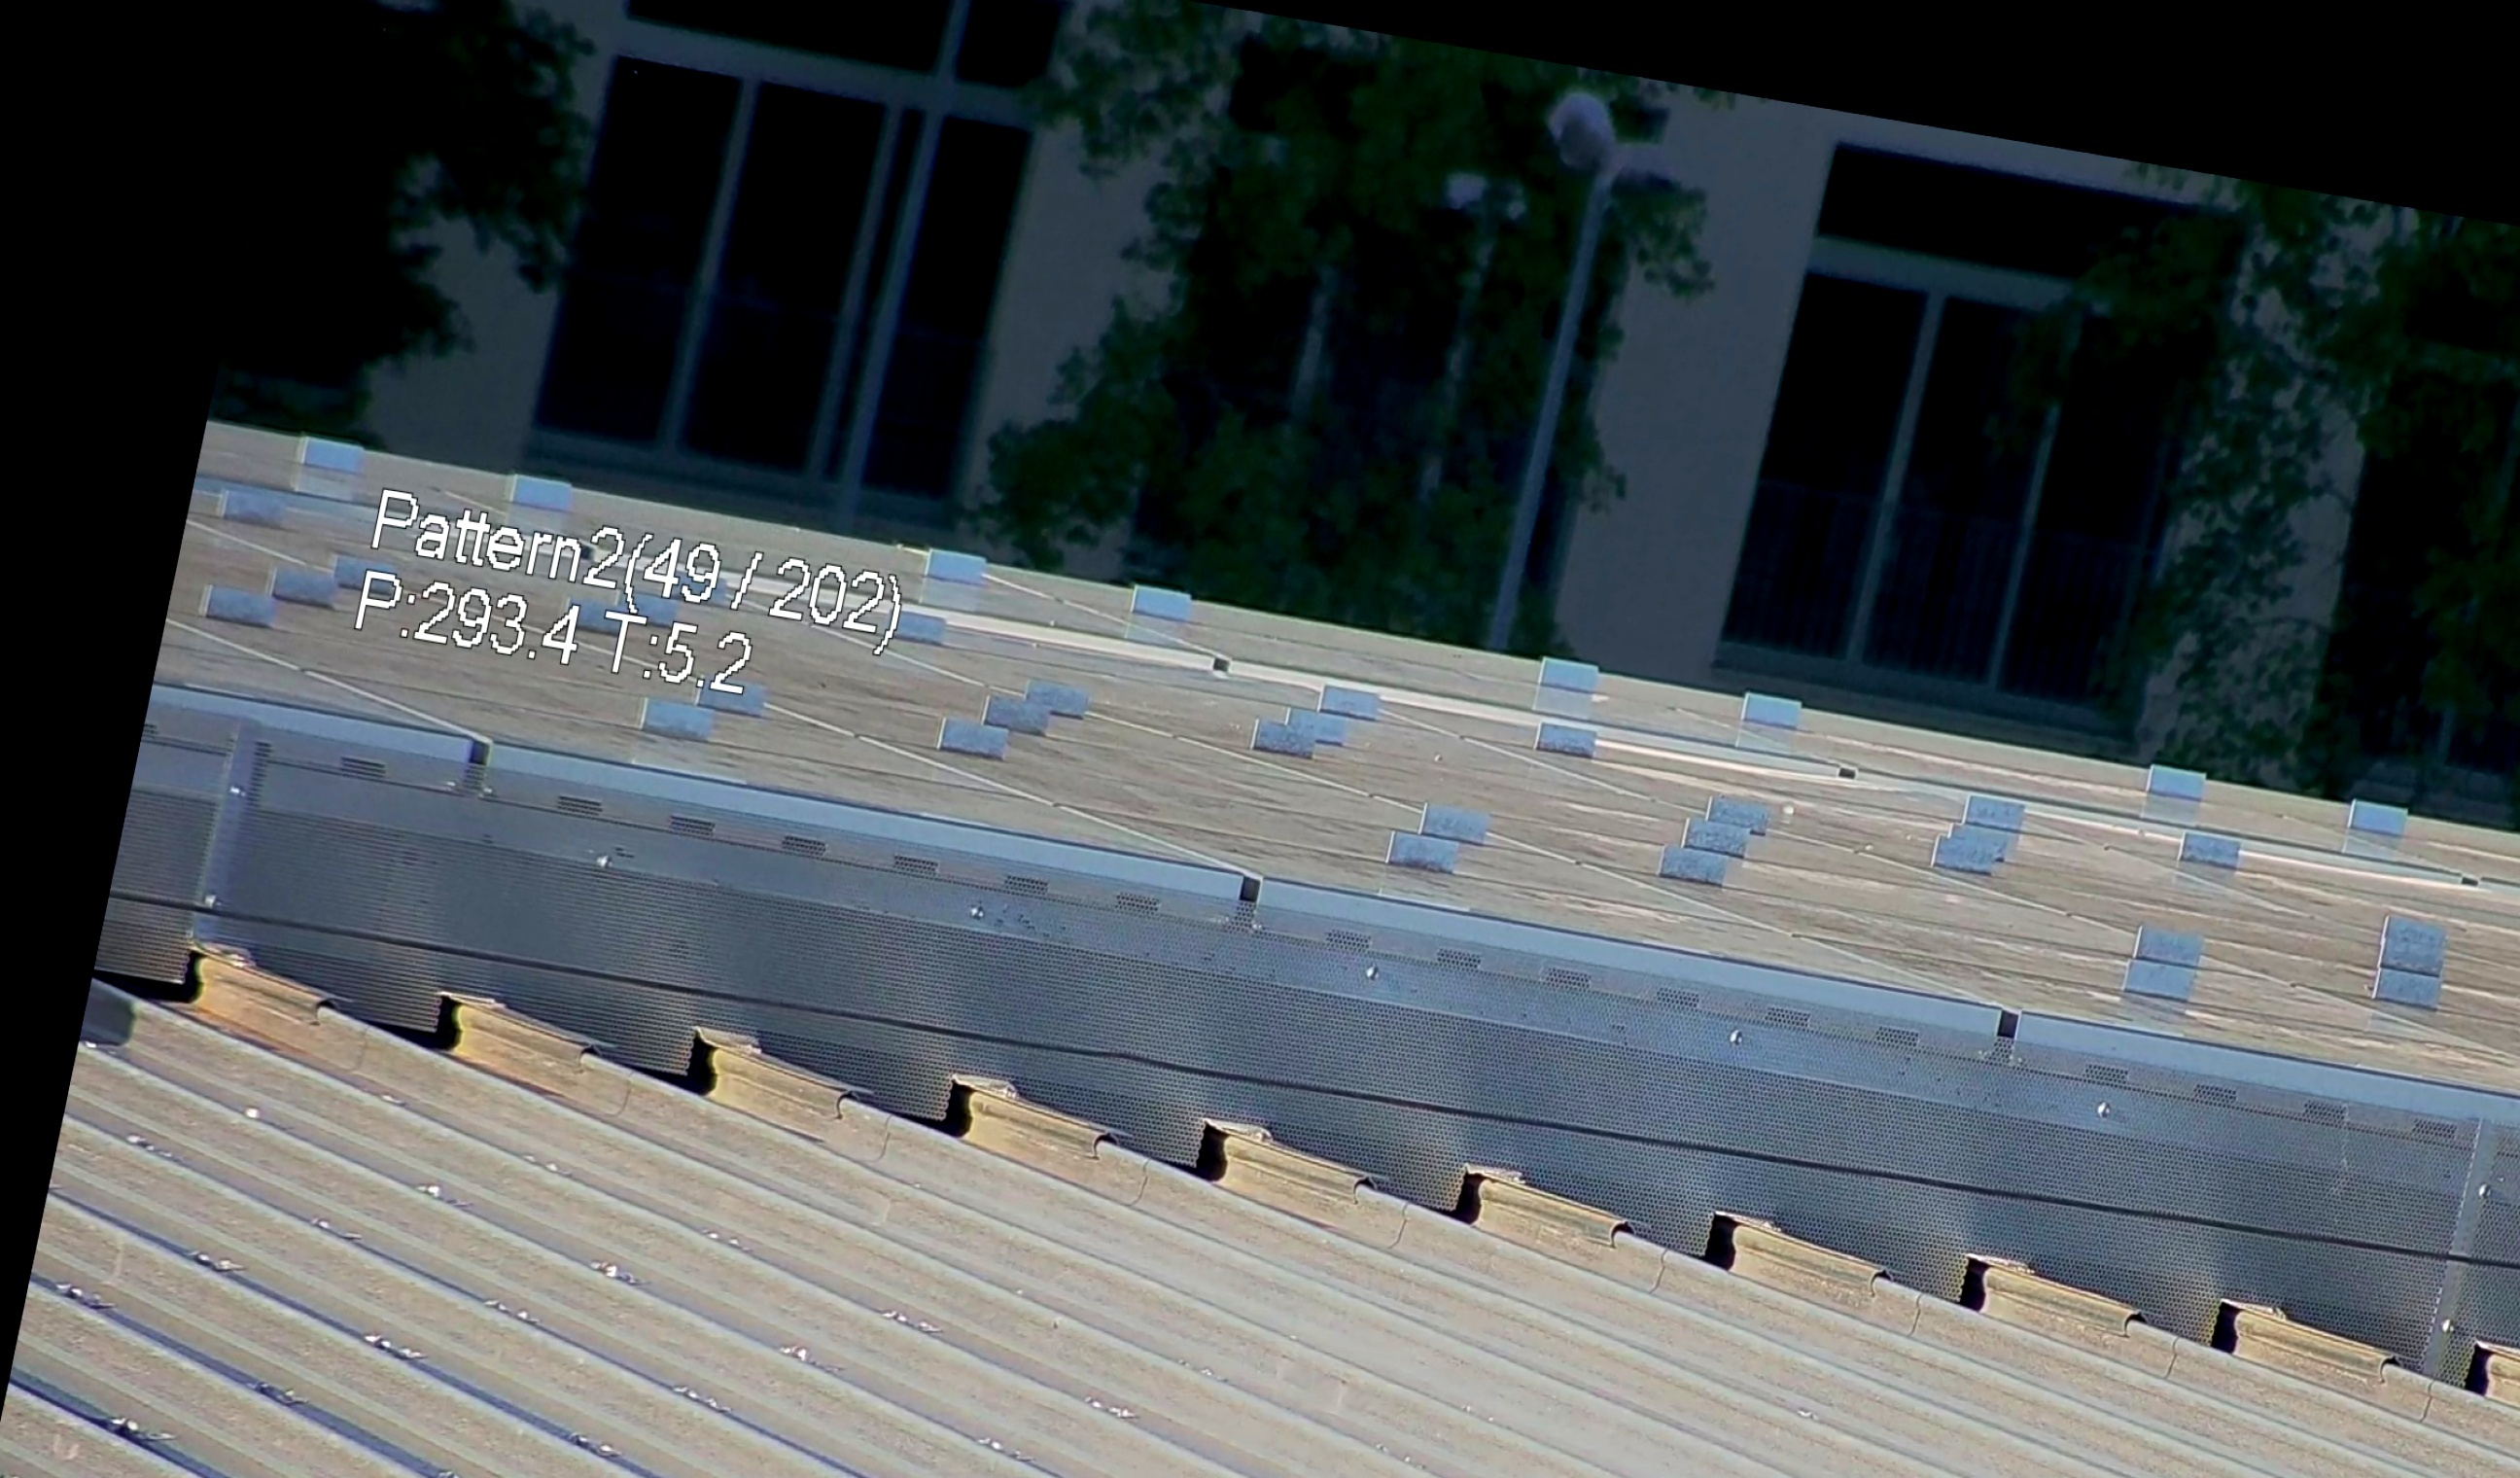Other: (645, 1017, 716, 1101)
